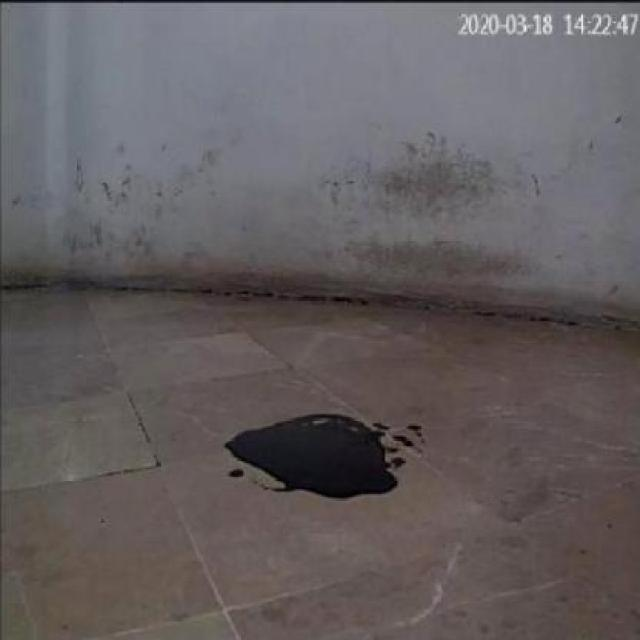spillage: (215, 410, 401, 500)
